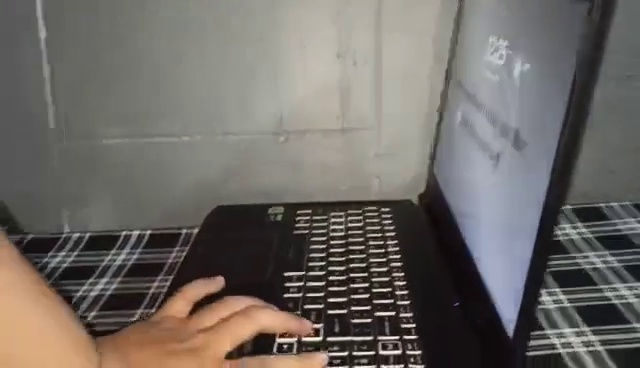laptop: (138, 1, 611, 363)
